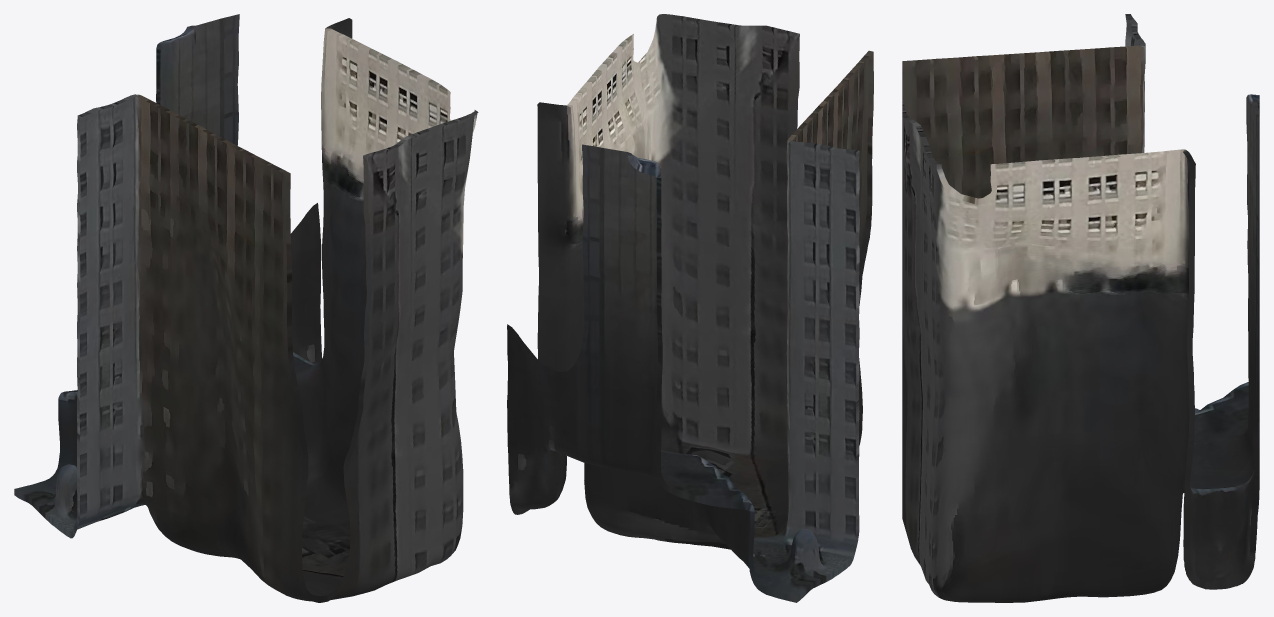
File: z20-167763-405236-h0-yup-uvflip-v3-world.glb
The picture shows the model from 3 angles, left to right: view 1: azimuth 30°, elevation 25°; view 2: azimuth 150°, elevation 25°; view 3: azimuth 270°, elevation 25°; orthographic projection. The views are drawn at different scales.
Bounding box in the file's own units: 30.2 × 42.92 × 30.32.
1 material, 1 textured.
